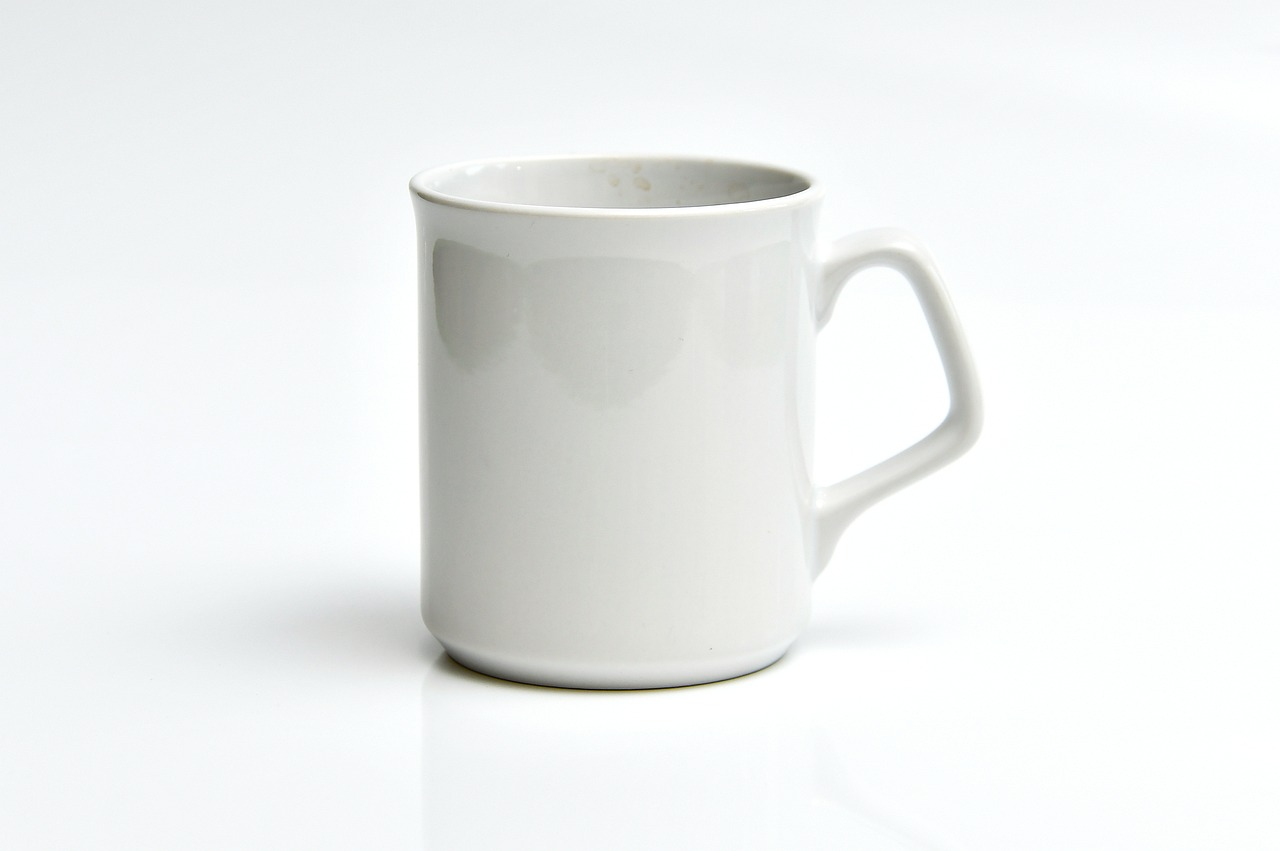mug: (292, 139, 1019, 735)
